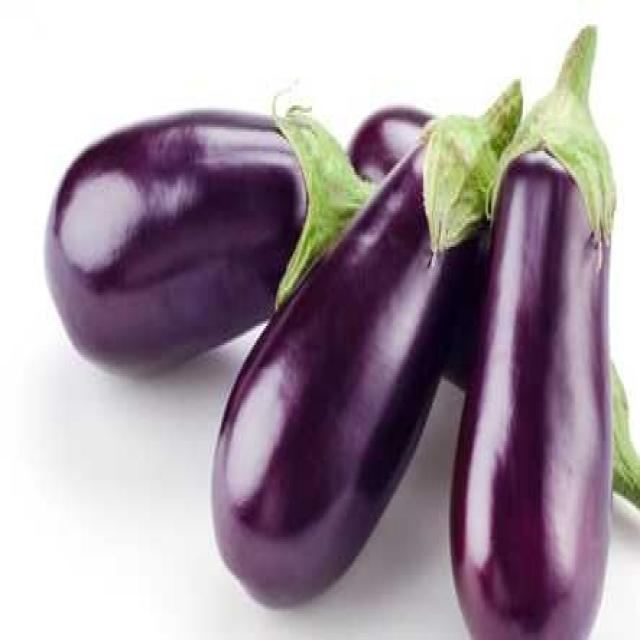Eggplant-r1Ob: (212, 83, 521, 602), (451, 27, 615, 636), (46, 108, 372, 366)
